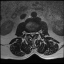CCS_normal: (31, 30, 33, 37)
LFS_normal: (35, 30, 37, 35)
LLS_normal: (33, 30, 35, 36)
RFS_stenosis: (27, 30, 29, 36)
RLS_normal: (29, 30, 31, 36)
